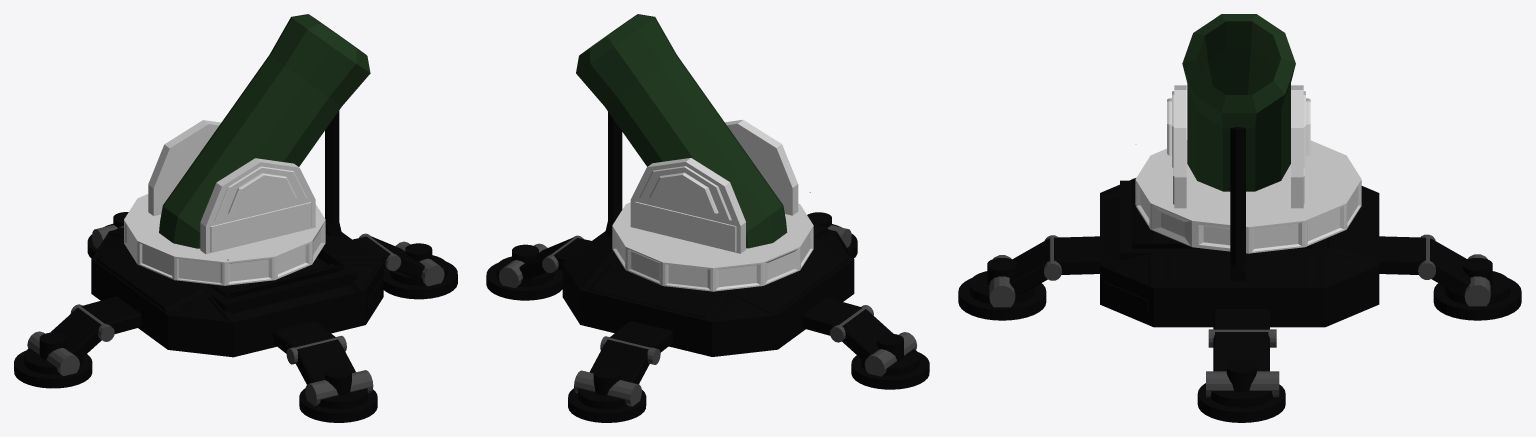
Rendered from TaretLevel2H.fbx.
3 views of the same model, side by side, from view 1: azimuth 30°, elevation 25°; view 2: azimuth 150°, elevation 25°; view 3: azimuth 270°, elevation 25° (orthographic). The views are drawn at different scales.
Visible parts, largest first — view 1: gövde, Govde, Namlu, leg3.003, leg3.006, leg3.008, leg3.005, leg3.002, Destek, leg3.007, leg3.004, leg3 (+1 smaller); view 2: Govde, gövde, Namlu, leg3.009, leg3.003, leg3.011, leg3.005, leg3.002, Destek, leg3.010, leg3.004, leg3 (+2 smaller); view 3: gövde, Govde, Namlu, leg3.002, leg3, leg3.009, leg3.006, leg3.011, leg3.008, Destek, leg3.001, leg3.007 (+1 smaller).
Boxes of the visible parts, <box> form: gövde: <box>91,227,383,357</box>; Govde: <box>124,120,325,285</box>; Namlu: <box>159,14,370,248</box>; leg3.003: <box>50,296,141,360</box>; leg3.006: <box>273,321,355,384</box>; leg3.008: <box>299,367,377,422</box>; leg3.005: <box>14,332,92,388</box>; leg3.002: <box>383,243,457,299</box>; Destek: <box>325,111,341,236</box>; leg3.007: <box>286,335,373,406</box>; leg3.004: <box>27,304,114,376</box>; leg3: <box>352,236,424,278</box>; Govde: <box>612,119,813,291</box>; gövde: <box>562,192,854,356</box>; Namlu: <box>576,14,787,248</box>; leg3.009: <box>590,321,672,384</box>; leg3.003: <box>802,297,893,361</box>; leg3.011: <box>568,367,646,422</box>; leg3.005: <box>851,333,929,389</box>; leg3.002: <box>486,244,562,300</box>; Destek: <box>605,112,622,235</box>; leg3.010: <box>574,336,660,406</box>; leg3.004: <box>830,305,917,376</box>; leg3: <box>519,237,591,279</box>; gövde: <box>1100,178,1379,327</box>; Govde: <box>1135,85,1361,253</box>; Namlu: <box>1182,14,1295,191</box>; leg3.002: <box>1197,360,1285,422</box>; leg3: <box>1213,309,1269,371</box>; leg3.009: <box>1379,236,1470,295</box>; leg3.006: <box>1009,236,1099,295</box>; leg3.011: <box>1433,258,1521,320</box>; leg3.008: <box>958,258,1046,320</box>; Destek: <box>1230,127,1245,280</box>; leg3.001: <box>1206,329,1279,397</box>; leg3.007: <box>989,235,1061,307</box>.
Size of the model in its own units: 671 by 429 by 673.
